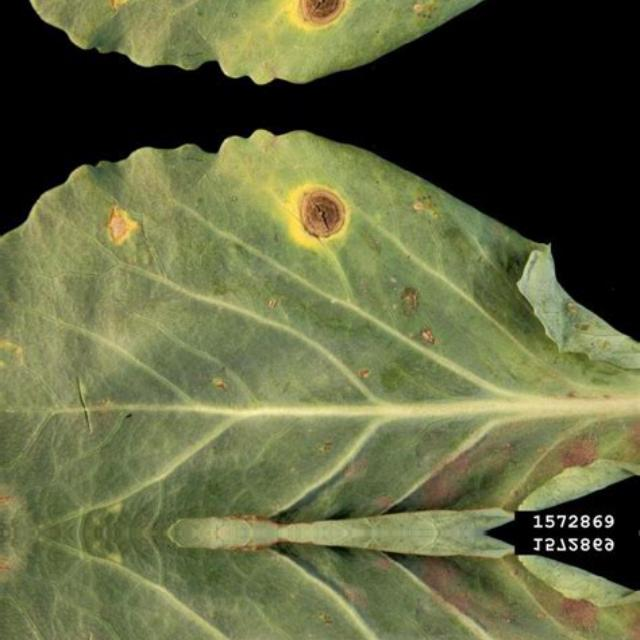Lettuce - Anthracnose: (0, 127, 640, 533), (0, 533, 640, 640), (0, 0, 640, 85)
